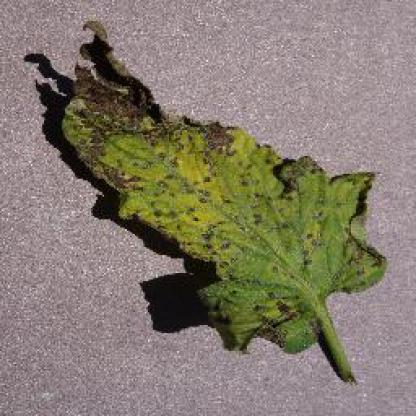bad leaf: (23, 34, 407, 395)
